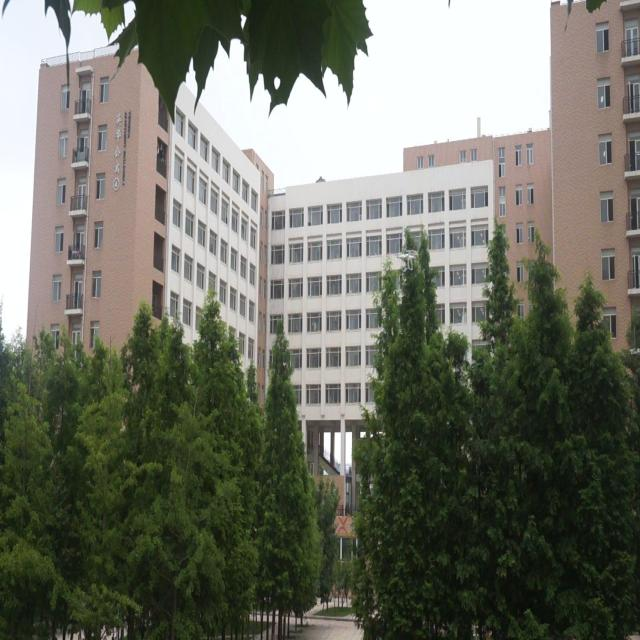drone: (398, 249, 416, 274)
